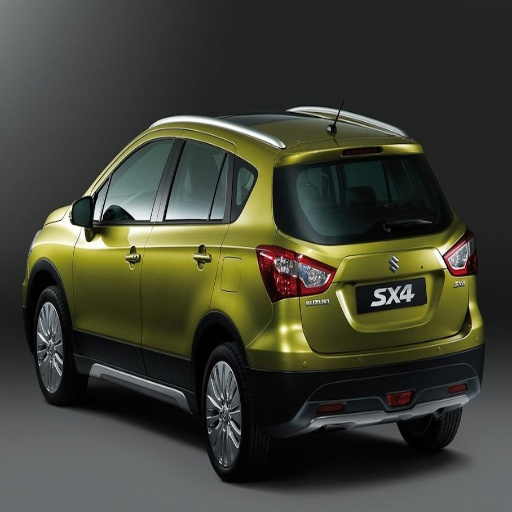back_bumper: (244, 275, 485, 437)
back_glass: (281, 156, 451, 244)
back_left_door: (143, 133, 228, 388)
tailgate: (300, 235, 457, 350)
trunk: (416, 264, 462, 339)
